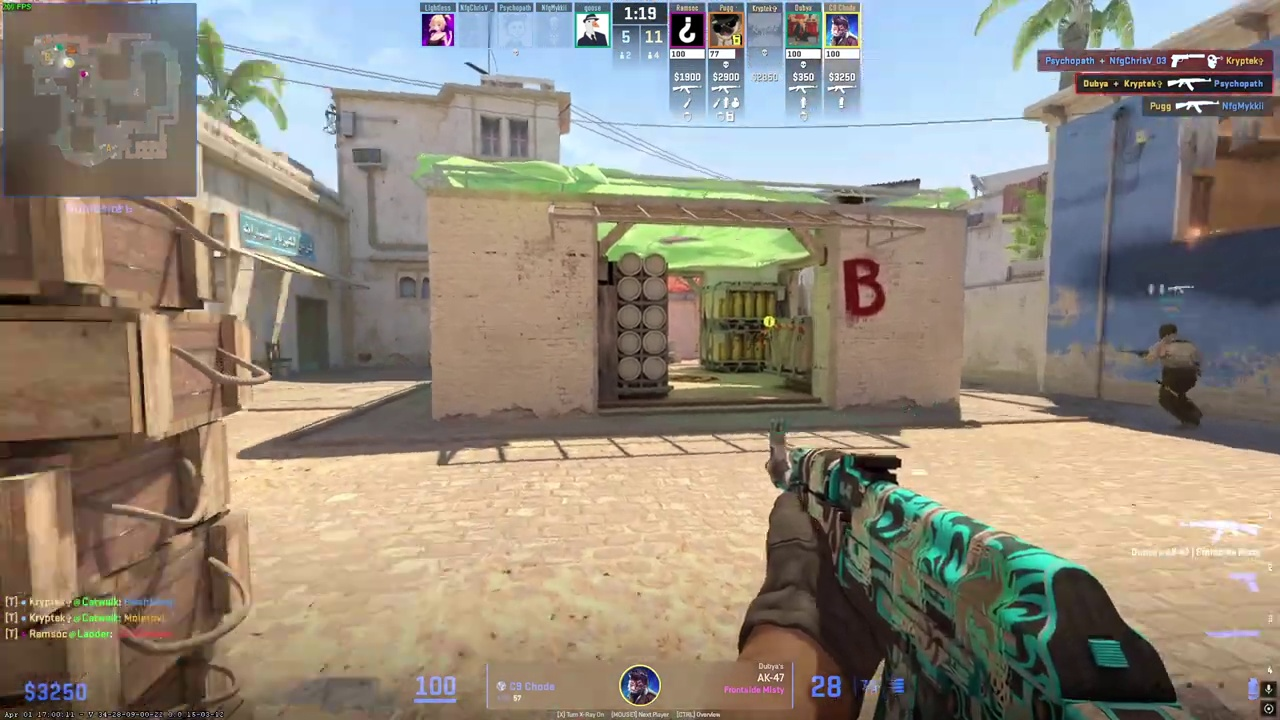Terrorist: (1147, 323, 1203, 426)
